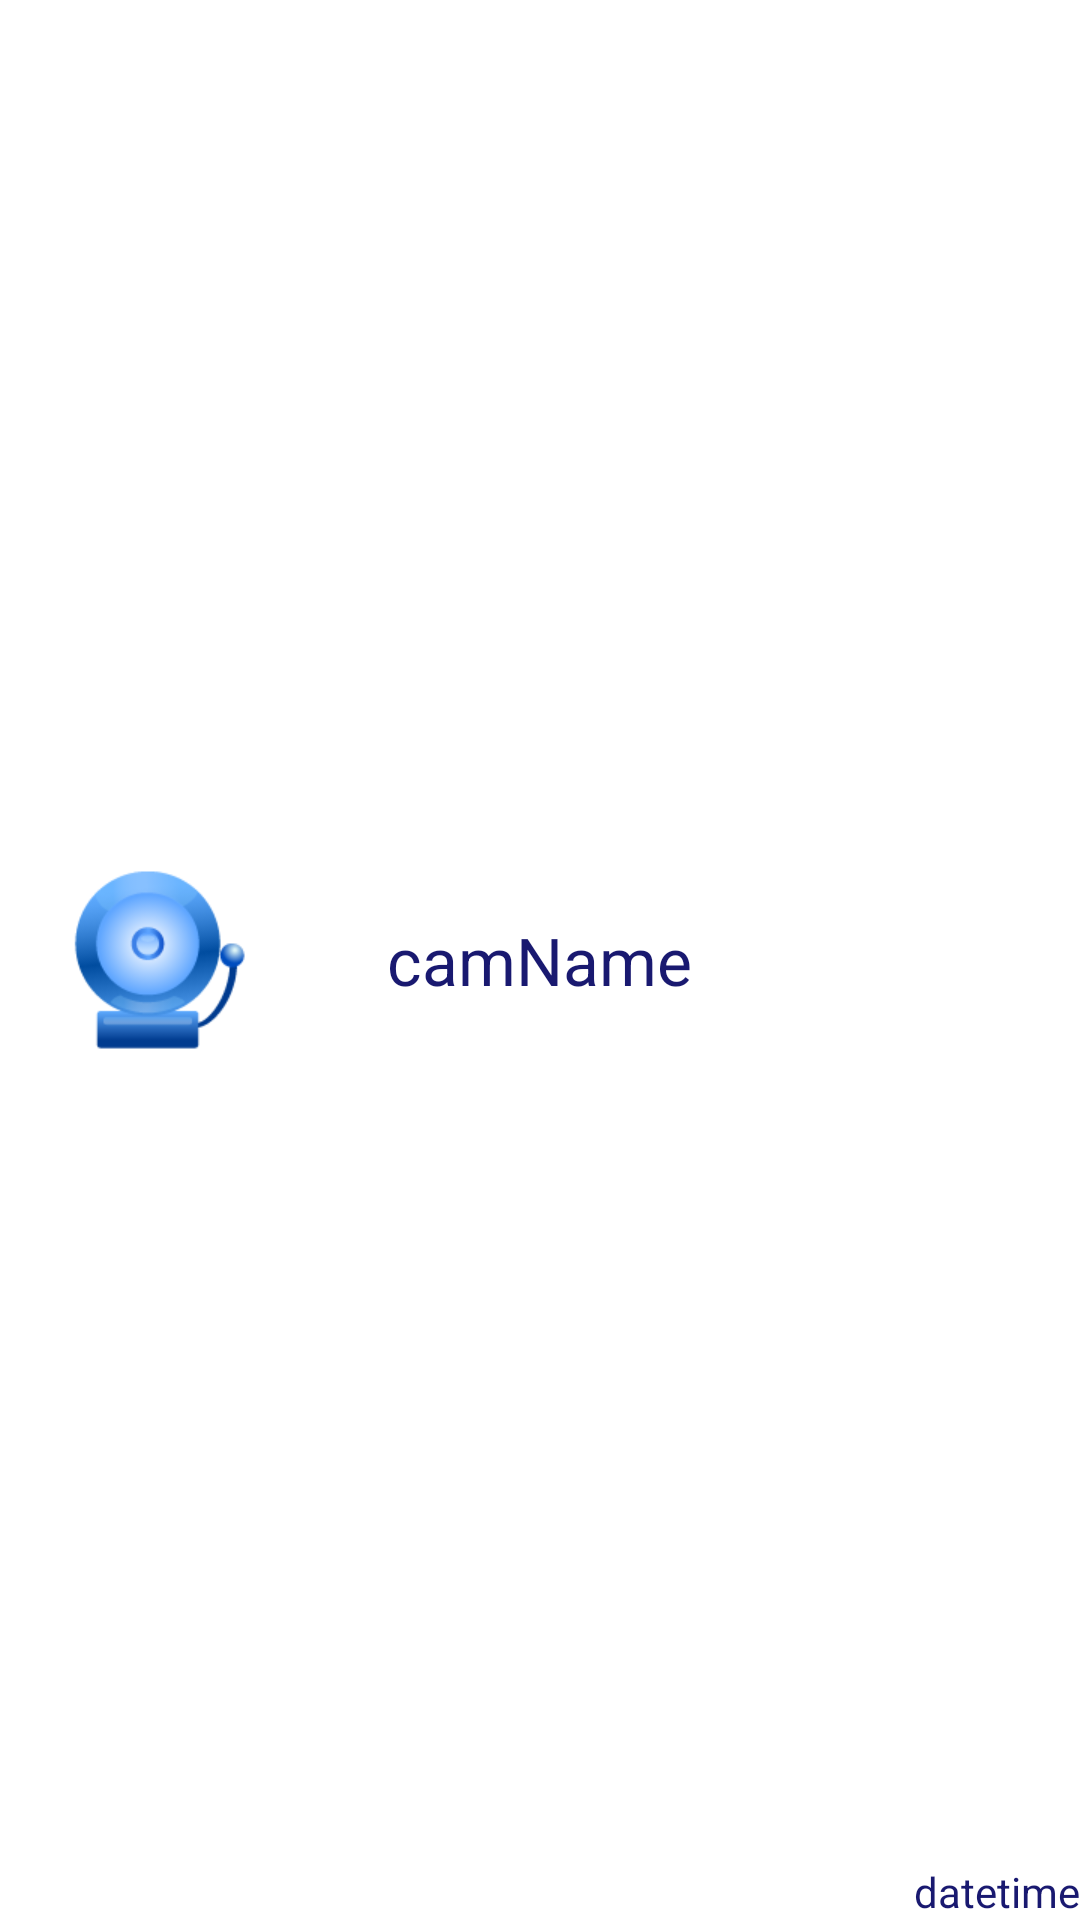

Icon bounding boxes for this 1080px x 1920px phone screenshot, format (x1, y1, x2, y2):
alarm: (74, 871, 245, 1049)
